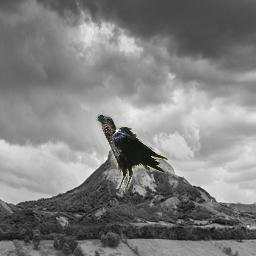Crow: (96, 114, 168, 189)
